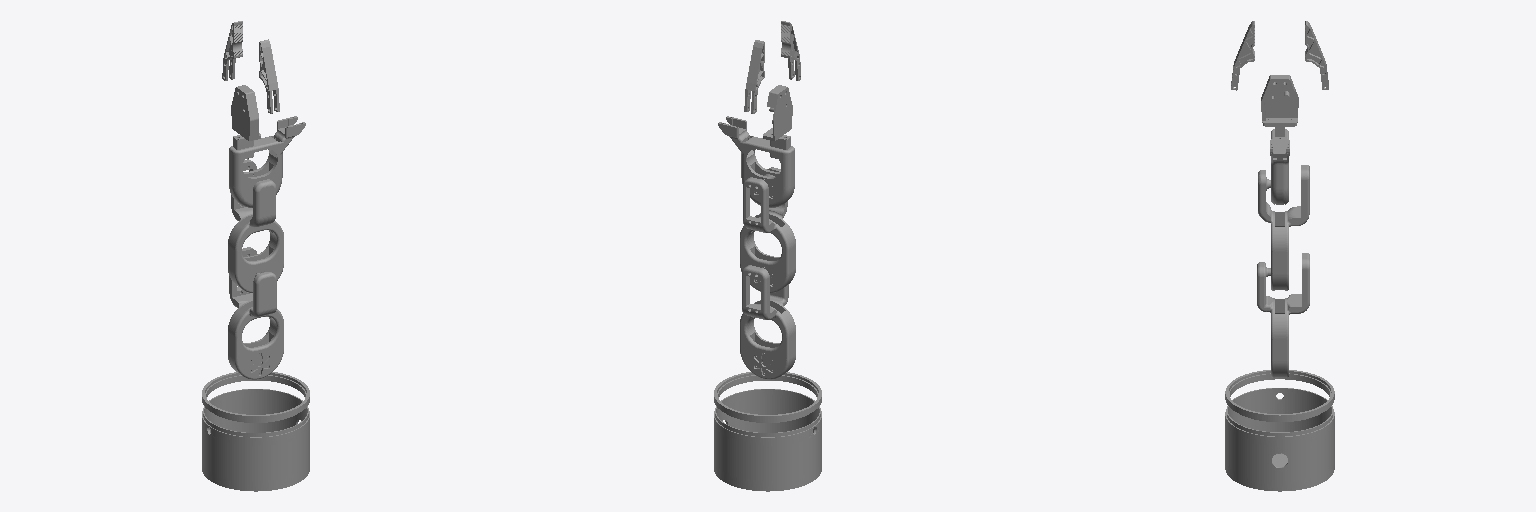
URDF robot description (root):
<?xml version="1.0"?>
<!-- RoboticHandMain CAD export normalized for IKPy. External joint/link names preserved. -->
<robot name="root">
    <mujoco>
        <compiler discardvisual="false"/>
    </mujoco>

    <material name="petg_grey">
        <color rgba="0.65 0.65 0.65 1.0"/>
    </material>

    <link name="base_link">
        <inertial>
            <mass value="0.16482214871533585"/>
            <origin xyz="-3.0514632052887033e-4 -5.194609508459193e-5 -0.054561587344866234" rpy="0 0 0"/>
            <inertia ixx="3.9743640038677347e-4" ixy="5.015372381484984e-7" ixz="4.415838760889767e-7" iyy="3.9146050306615107e-4" iyz="-1.7926083451617016e-7" izz="5.887638395813633e-4"/>
        </inertial>
        <visual>
            <origin xyz="0 0 0" rpy="0 0 0"/>
            <geometry>
                <mesh filename="meshes/RoboticHandMain-base_link.stl" scale="1 1 1"/>
            </geometry>
            <material name="petg_grey"/>
        </visual>
        <collision>
            <origin xyz="0 0 0" rpy="0 0 0"/>
            <geometry>
                <mesh filename="meshes/RoboticHandMain-base_link.stl" scale="1 1 1"/>
            </geometry>
        </collision>
    </link>

    <link name="base_spinning">
        <inertial>
            <mass value="0.021598436167585597"/>
            <origin xyz="-3.4677580167822093e-6 -6.502503433384905e-6 0.016107198022897506" rpy="0 0 0"/>
            <inertia ixx="4.4140367964028734e-5" ixy="-2.594632187963259e-9" ixz="-6.112325425963621e-10" iyy="4.414026839047356e-5" iyz="1.1269471727050006e-10" izz="8.796801032340013e-5"/>
        </inertial>
        <visual>
            <origin xyz="0 0 0" rpy="0 0 -1.5707963267948966"/>
            <geometry>
                <mesh filename="meshes/RoboticHandMain-link_1.stl" scale="1 1 1"/>
            </geometry>
            <material name="petg_grey"/>
        </visual>
        <collision>
            <origin xyz="0 0 0" rpy="0 0 -1.5707963267948966"/>
            <geometry>
                <mesh filename="meshes/RoboticHandMain-link_1.stl" scale="1 1 1"/>
            </geometry>
        </collision>
    </link>

    <link name="shoulder_link">
        <inertial>
            <mass value="0.12151866401689168"/>
            <origin xyz="-0.0542897434260521 -2.009447433402056e-4 0.011401572749222644" rpy="0 0 0"/>
            <inertia ixx="7.968588623063905e-5" ixy="5.763677700783584e-8" ixz="5.708916028320782e-6" iyy="2.4273926883220404e-4" iyz="-2.665476572441211e-7" izz="2.539139148412884e-4"/>
        </inertial>
        <visual>
            <origin xyz="0.06496904392899999 -2.0000000000000042e-4 0.010269043928999999" rpy="1.5707963267948966 0 -1.5707963267948966"/>
            <geometry>
                <mesh filename="meshes/RoboticHandMain-link_2.stl" scale="1 1 1"/>
            </geometry>
            <material name="petg_grey"/>
        </visual>
        <collision>
            <origin xyz="0.06496904392899999 -2.0000000000000042e-4 0.010269043928999999" rpy="1.5707963267948966 0 -1.5707963267948966"/>
            <geometry>
                <mesh filename="meshes/RoboticHandMain-link_2.stl" scale="1 1 1"/>
            </geometry>
        </collision>
    </link>

    <link name="elbow_link">
        <inertial>
            <mass value="1e-6"/>
            <origin xyz="0 0 0" rpy="0 0 0"/>
            <inertia ixx="1e-12" ixy="0" ixz="0" iyy="1e-12" iyz="0" izz="1e-12"/>
        </inertial>
        <visual>
            <origin xyz="0.181969043929 -2.0000000000000017e-4 -0.010269043929" rpy="1.5707963267948966 0 -1.5707963267948966"/>
            <geometry>
                <mesh filename="meshes/RoboticHandMain-link_3.stl" scale="1 1 1"/>
            </geometry>
            <material name="petg_grey"/>
        </visual>
        <collision>
            <origin xyz="0.181969043929 -2.0000000000000017e-4 -0.010269043929" rpy="1.5707963267948966 0 -1.5707963267948966"/>
            <geometry>
                <mesh filename="meshes/RoboticHandMain-link_3.stl" scale="1 1 1"/>
            </geometry>
        </collision>
    </link>

    <link name="wrist_link">
        <inertial>
            <mass value="1e-6"/>
            <origin xyz="0 0 0" rpy="0 0 0"/>
            <inertia ixx="1e-12" ixy="0" ixz="0" iyy="1e-12" iyz="0" izz="1e-12"/>
        </inertial>
        <visual>
            <origin xyz="0.30096904392900004 -2.0000000000000017e-4 -0.010269043929" rpy="1.5707963267948966 0 -1.5707963267948966"/>
            <geometry>
                <mesh filename="meshes/RoboticHandMain-wrist_mount.stl" scale="1 1 1"/>
            </geometry>
            <material name="petg_grey"/>
        </visual>
        <collision>
            <origin xyz="0.30096904392900004 -2.0000000000000017e-4 -0.010269043929" rpy="1.5707963267948966 0 -1.5707963267948966"/>
            <geometry>
                <mesh filename="meshes/RoboticHandMain-wrist_mount.stl" scale="1 1 1"/>
            </geometry>
        </collision>
    </link>

    <link name="servo_lower">
        <inertial>
            <mass value="0.009843362087794748"/>
            <origin xyz="-0.01938307768067746 4.118327502834714e-7 0.36261532018704273" rpy="0 0 0"/>
            <inertia ixx="9.365679274806139e-7" ixy="-2.505544290302802e-10" ixz="-1.0695061195861672e-8" iyy="1.2114365845593595e-6" iyz="-9.539494582747828e-12" izz="6.500369798009868e-7"/>
        </inertial>
        <visual>
            <origin xyz="0 0 0" rpy="0 0 0"/>
            <geometry>
                <mesh filename="meshes/RoboticHandMain-servo_lower.stl" scale="1 1 1"/>
            </geometry>
            <material name="petg_grey"/>
        </visual>
        <collision>
            <origin xyz="0 0 0" rpy="0 0 0"/>
            <geometry>
                <mesh filename="meshes/RoboticHandMain-servo_lower.stl" scale="1 1 1"/>
            </geometry>
        </collision>
    </link>

    <link name="main__gripperbase">
        <inertial>
            <mass value="1e-6"/>
            <origin xyz="0 0 0" rpy="0 0 0"/>
            <inertia ixx="1e-12" ixy="0" ixz="0" iyy="1e-12" iyz="0" izz="1e-12"/>
        </inertial>
    </link>

    <link name="claw_base">
        <inertial>
            <mass value="6.728990646967068e-4"/>
            <origin xyz="0.008050302561575896 0.002456633048494071 0.03628202608468173" rpy="0 0 0"/>
            <inertia ixx="1.1711975298124996e-8" ixy="-5.015131704991179e-15" ixz="-9.147625040263619e-16" iyy="4.470488251864359e-9" iyz="1.2075448888745795e-16" izz="1.1711937328552835e-8"/>
        </inertial>
        <visual>
            <origin xyz="-3.2141686081884447e-4 0.008906626151124503 0.03914018114135246" rpy="1.9470172027809602e-13 1.5467229353657888 -3.1415926535895986"/>
            <geometry>
                <mesh filename="meshes/RoboticHandMain-claw_base.stl" scale="1 1 1"/>
            </geometry>
            <material name="petg_grey"/>
        </visual>
        <collision>
            <origin xyz="-3.2141686081884447e-4 0.008906626151124503 0.03914018114135246" rpy="1.9470172027809602e-13 1.5467229353657888 -3.1415926535895986"/>
            <geometry>
                <mesh filename="meshes/RoboticHandMain-claw_base-collision.stl" scale="1 1 1"/>
            </geometry>
        </collision>
    </link>

    <link name="gear_lower">
        <inertial>
            <mass value="0.0024394686191296987"/>
            <origin xyz="0.01982149674371274 -0.0056493599974259436 2.6555195338223036e-4" rpy="0 0 0"/>
            <inertia ixx="8.564347308106223e-8" ixy="1.9726690626638839e-7" ixz="4.9045195476835136e-9" iyy="7.255317776956729e-7" iyz="-1.42069844486564e-9" izz="8.046822966205397e-7"/>
        </inertial>
    </link>

    <link name="gear_upper">
        <inertial>
            <mass value="0.002700890778469492"/>
            <origin xyz="0.018031800782761398 0.006081684370111625 -0.0019397947444533708" rpy="0 0 0"/>
            <inertia ixx="1.1441458597433919e-7" ixy="-2.482614714641828e-7" ixz="-2.4099160517420687e-9" iyy="7.69229183981861e-7" iyz="-7.201164438191943e-10" izz="8.764261754386196e-7"/>
        </inertial>
    </link>

    <link name="main__gripper1">
        <inertial>
            <mass value="0.009115431126134225"/>
            <origin xyz="-0.011134962997883593 0.04238871952329182 0.0018534326910324916" rpy="0 0 0"/>
            <inertia ixx="4.138435082575464e-6" ixy="1.1547657518540761e-6" ixz="-4.582631162798747e-9" iyy="6.602730375148482e-7" iyz="1.4247172588139357e-8" izz="4.5747181497278055e-6"/>
        </inertial>
        <visual>
            <origin xyz="-0.05526530027459824 -0.013643573186512981 0.0167669327258795" rpy="-1.5668290686610693 -0.002470118880085356 -1.5707963267948966"/>
            <geometry>
                <mesh filename="meshes/RoboticHandMain-claw_upper.stl" scale="1 1 1"/>
            </geometry>
            <material name="petg_grey"/>
        </visual>
        <collision>
            <origin xyz="-0.05526530027459824 -0.013643573186512981 0.0167669327258795" rpy="-1.5668290686610693 -0.002470118880085356 -1.5707963267948966"/>
            <geometry>
                <mesh filename="meshes/RoboticHandMain-claw_upper.stl" scale="1 1 1"/>
            </geometry>
        </collision>
    </link>

    <link name="main__gripper2">
        <inertial>
            <mass value="0.0091154311261362"/>
            <origin xyz="-0.01114534382321166 -0.04238016775357993 0.001852982886163325" rpy="0 0 0"/>
            <inertia ixx="4.137499146720578e-6" ixy="-1.156182709923334e-6" ixz="-9.958710359460574e-10" iyy="6.611626595986821e-7" iyz="-4.656466751032733e-9" izz="4.574764463502203e-6"/>
        </inertial>
        <visual>
            <origin xyz="-0.056104015848389505 0.011737343921369813 0.017109223122559483" rpy="-1.566896394461445 -0.002469196408202625 1.5983643131469132"/>
            <geometry>
                <mesh filename="meshes/RoboticHandMain-claw_lower.stl" scale="1 1 1"/>
            </geometry>
            <material name="petg_grey"/>
        </visual>
        <collision>
            <origin xyz="-0.056104015848389505 0.011737343921369813 0.017109223122559483" rpy="-1.566896394461445 -0.002469196408202625 1.5983643131469132"/>
            <geometry>
                <mesh filename="meshes/RoboticHandMain-claw_lower.stl" scale="1 1 1"/>
            </geometry>
        </collision>
    </link>

    <joint name="revolute_1" type="revolute">
        <origin xyz="0 0 0" rpy="0 0 1.5707963267948966"/>
        <axis xyz="0 0 -1"/>
        <limit lower="-3.14159" upper="3.14159" effort="1.5" velocity="3.0"/>
        <parent link="base_link"/>
        <child link="base_spinning"/>
    </joint>

    <joint name="revolute_2" type="revolute">
        <origin xyz="-0.010269043929 0.00020000000000000042 0.064969043929" rpy="0 1.5707963267948966 0"/>
        <axis xyz="0 0 1"/>
        <limit lower="-1.5708" upper="0.0" effort="2.5" velocity="3.0"/>
        <parent link="base_spinning"/>
        <child link="shoulder_link"/>
    </joint>

    <joint name="revolute_3" type="revolute">
        <origin xyz="-0.117 -0.00019999999999999998 0.020537999999999998" rpy="0 0 0"/>
        <axis xyz="0 0 1"/>
        <limit lower="-1.5708" upper="0.0" effort="2.0" velocity="3.0"/>
        <parent link="shoulder_link"/>
        <child link="elbow_link"/>
    </joint>

    <joint name="revolute_4" type="revolute">
        <origin xyz="-0.119 0 0" rpy="0 0 0"/>
        <axis xyz="0 0 1"/>
        <limit lower="-1.5708" upper="0.0" effort="1.5" velocity="3.0"/>
        <parent link="elbow_link"/>
        <child link="wrist_link"/>
    </joint>

    <joint name="servo_lower_fixed" type="fixed">
        <origin xyz="0.30096904392900004 -2.0000000000000017e-4 -0.010269043929" rpy="1.5707963267948966 0 -1.5707963267948966"/>
        <parent link="wrist_link"/>
        <child link="servo_lower"/>
    </joint>

    <joint name="main__gripperbase_fixed" type="fixed">
        <origin xyz="-0.013000000000000003 9.999991945619514e-13 0.375999999999" rpy="0 0 1.5707963267948966"/>
        <parent link="servo_lower"/>
        <child link="main__gripperbase"/>
    </joint>

    <joint name="revolute_5" type="revolute">
        <origin xyz="-0.013000000000000003 9.999991945619514e-13 0.375999999999" rpy="0 0 1.5707963267948966"/>
        <axis xyz="0 0 1"/>
        <limit lower="-1.5708" upper="1.5708" effort="1.0" velocity="3.0"/>
        <parent link="servo_lower"/>
        <child link="claw_base"/>
    </joint>

    <joint name="gear_lower_fixed" type="fixed">
        <origin xyz="0.00832969614492209 -0.003981156508195392 0.03705015749291658" rpy="-1.5731709217017824 -0.024054811114278978 0.004013253135488469"/>
        <parent link="claw_base"/>
        <child link="gear_lower"/>
    </joint>

    <joint name="gear_upper_fixed" type="fixed">
        <origin xyz="-0.008190371663916843 -0.004047086017022933 0.037050309526152146" rpy="1.5731709221142718 -0.024073201945547587 -3.137624245621452"/>
        <parent link="claw_base"/>
        <child link="gear_upper"/>
    </joint>

    <joint name="revolute_7" type="revolute">
        <origin xyz="0.04739760186630935 0.015954166769932842 -0.0038499999999999945" rpy="0 0 0"/>
        <axis xyz="0 0 -1"/>
        <limit lower="-0.6" upper="0.6" effort="1.0" velocity="3.0"/>
        <parent link="gear_upper"/>
        <child link="main__gripper1"/>
    </joint>

    <joint name="revolute_6" type="revolute">
        <origin xyz="0.04739760338178221 -0.015954163006239527 -0.0038499978484936364" rpy="0 0 0"/>
        <axis xyz="0 0 -1"/>
        <limit lower="-0.6" upper="0.6" effort="1.0" velocity="3.0"/>
        <mimic joint="revolute_7" multiplier="-1.0" offset="0.0"/>
        <parent link="gear_lower"/>
        <child link="main__gripper2"/>
    </joint>
</robot>

--- What the picture shows (computed from the rendered views, not written in the file) ---
The picture shows the robot from 3 angles, left to right: view 1: azimuth 30°, elevation 25°; view 2: azimuth 150°, elevation 25°; view 3: azimuth 270°, elevation 25°; orthographic projection.
Model root with 12 links and 11 joints (7 revolute, 4 fixed), rooted at base_link, posed all joints at 0.
Visible links, largest first — view 1: base_link, shoulder_link, elbow_link, wrist_link, base_spinning, claw_base, main__gripper1, main__gripper2; view 2: base_link, shoulder_link, elbow_link, wrist_link, base_spinning, claw_base, main__gripper2, main__gripper1; view 3: base_link, shoulder_link, elbow_link, base_spinning, claw_base, wrist_link, main__gripper2, main__gripper1.
Boxes of the visible links, x1,y1,x2,y2 form: base_link: (202, 389, 309, 491); shoulder_link: (228, 247, 283, 379); elbow_link: (228, 159, 283, 292); wrist_link: (229, 116, 305, 207); base_spinning: (202, 372, 309, 422); claw_base: (231, 85, 260, 140); main__gripper1: (259, 39, 279, 113); main__gripper2: (222, 21, 242, 80); base_link: (714, 389, 821, 491); shoulder_link: (740, 265, 795, 379); elbow_link: (740, 167, 795, 292); wrist_link: (718, 116, 794, 207); base_spinning: (714, 372, 821, 422); claw_base: (763, 85, 792, 140); main__gripper2: (744, 40, 764, 113); main__gripper1: (781, 21, 800, 80); base_link: (1225, 388, 1334, 491); shoulder_link: (1257, 253, 1309, 377); elbow_link: (1258, 165, 1309, 290); base_spinning: (1225, 370, 1334, 421); claw_base: (1261, 75, 1298, 126); wrist_link: (1270, 129, 1289, 204); main__gripper2: (1305, 21, 1328, 89); main__gripper1: (1231, 21, 1254, 90).
Size in the robot's own frame: 0.133 by 0.133 by 0.5948 metres.
Meshes: 9 distinct files referenced, 9 mesh visuals loaded (9 binary STL).
